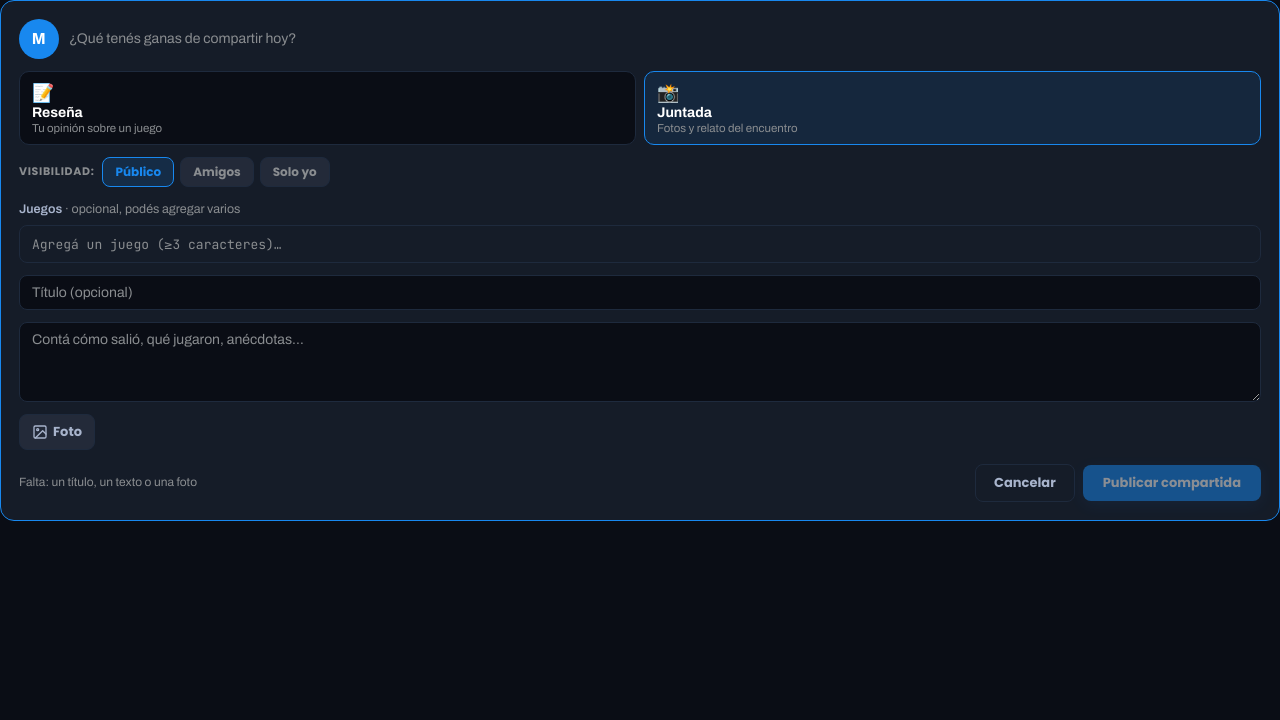
Test case: <CreateCompartidaForm> › typing a body enables the submit button
This screenshot has width=1280, height=720.
In the text box with placeholder "Contá cómo salió, qué jugaron, anécdotas…": (640, 362) [19,322,1261,402], type "Anoche jugamos…"
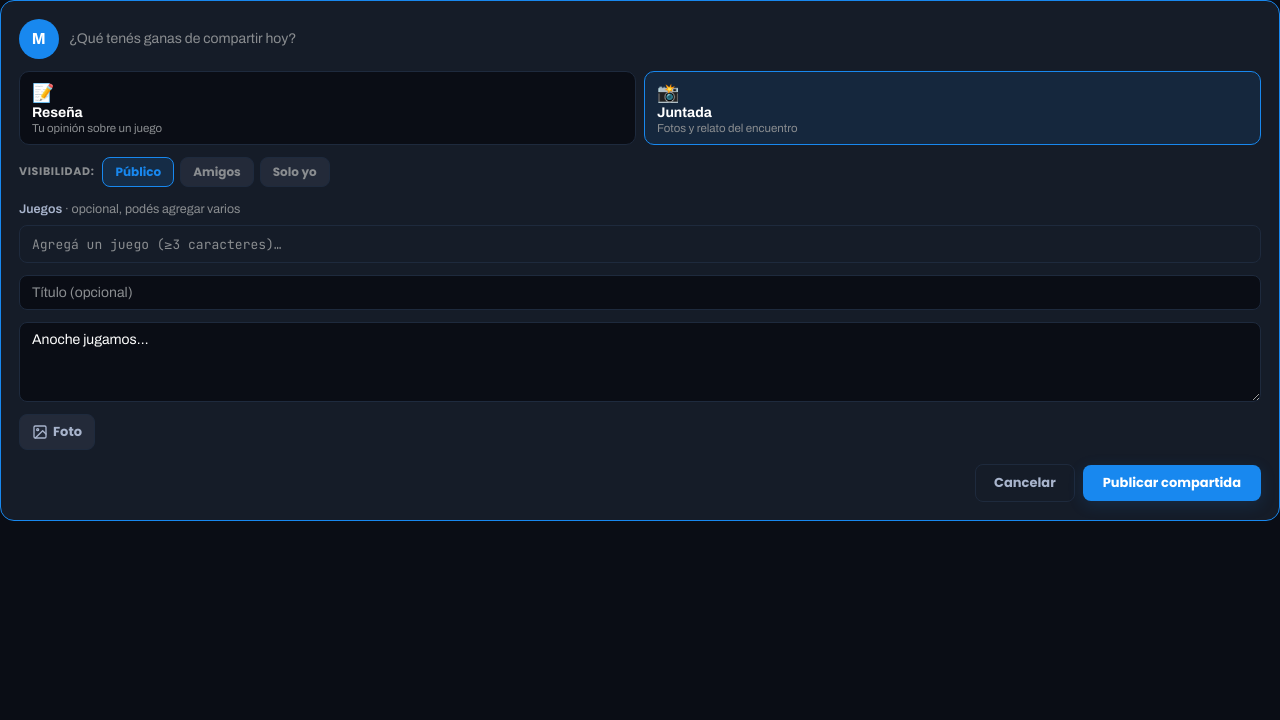
Result: the button "Publicar compartida" is enabled at [1083,465,1261,501]
